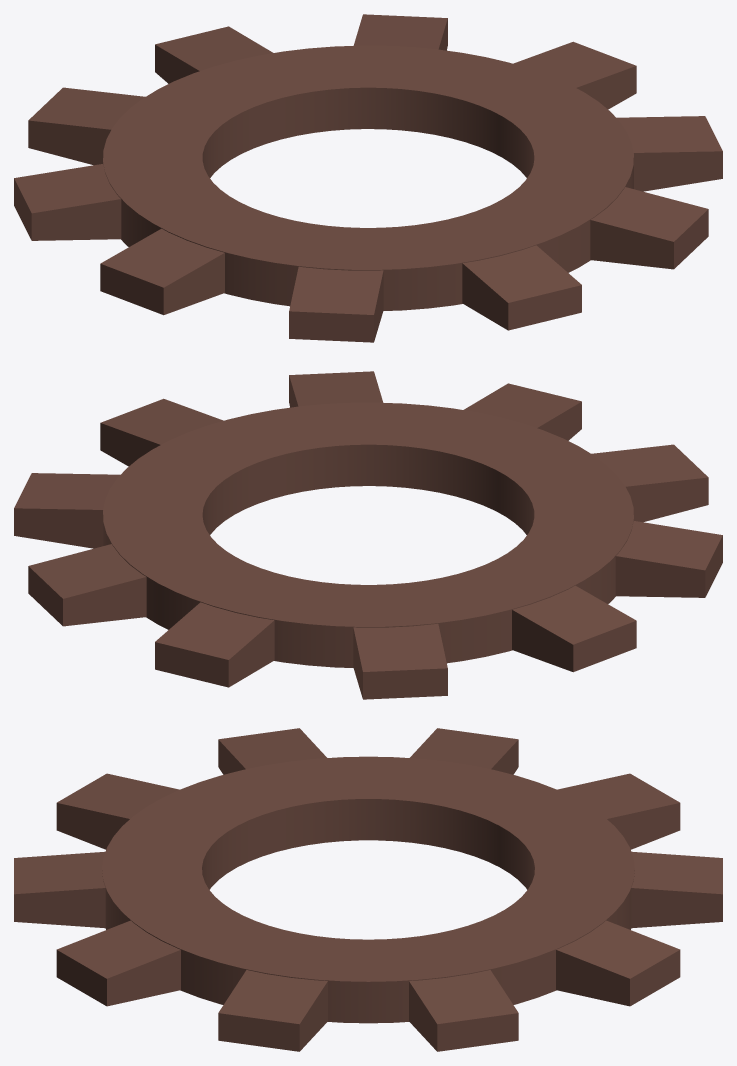
3 views of the same model, one above another, from view 1: azimuth 30°, elevation 25°; view 2: azimuth 150°, elevation 25°; view 3: azimuth 270°, elevation 25° (orthographic).
Parts seen in each view (by area): view 1: annulus; view 2: annulus; view 3: annulus.
Part boxes in pixels (bbox=[...]): annulus: bbox=[14, 14, 722, 342]; annulus: bbox=[14, 371, 722, 699]; annulus: bbox=[14, 728, 722, 1051].
Size of the model in its own units: 0.1473 by 0.00962 by 0.149.
